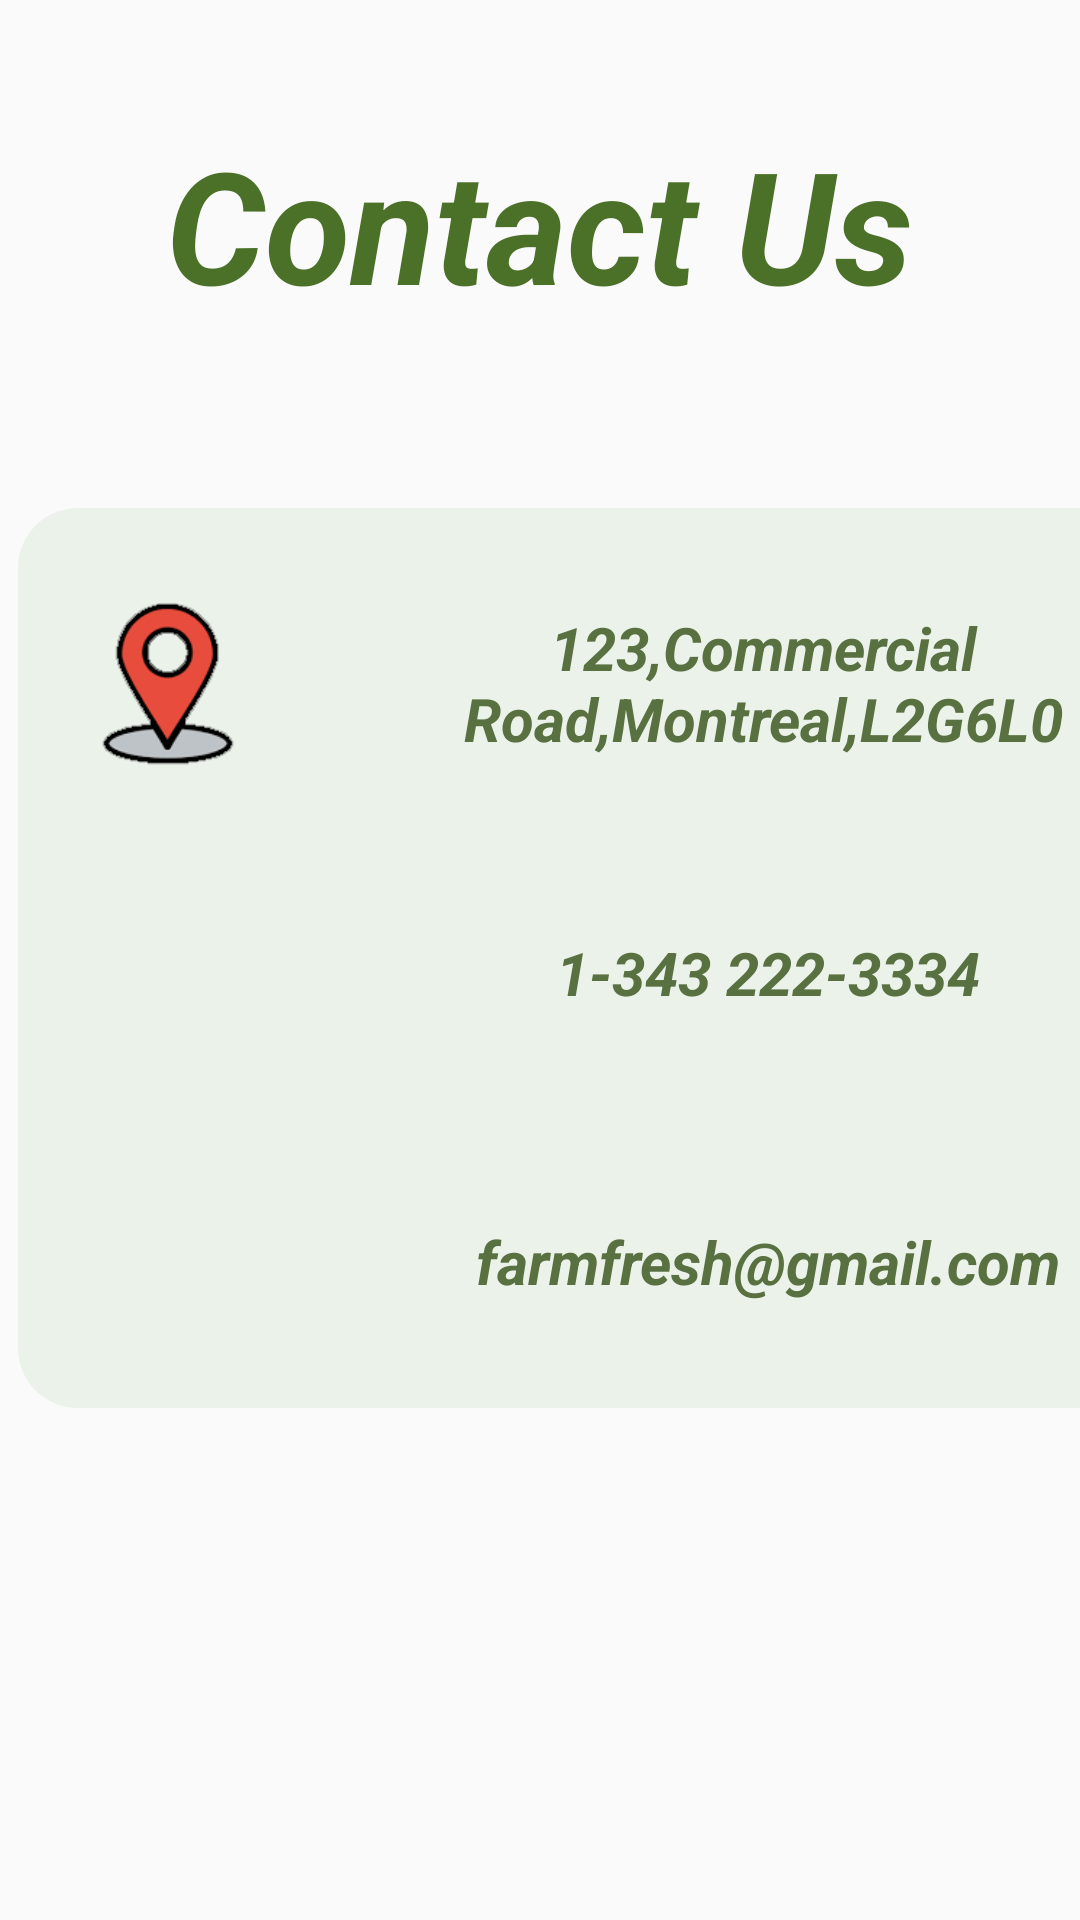

Locate icon controls on the screen. Image size 1080w x 1920h, boxes as (x1, y1, x2, y2).
location: (102, 603, 234, 765)
